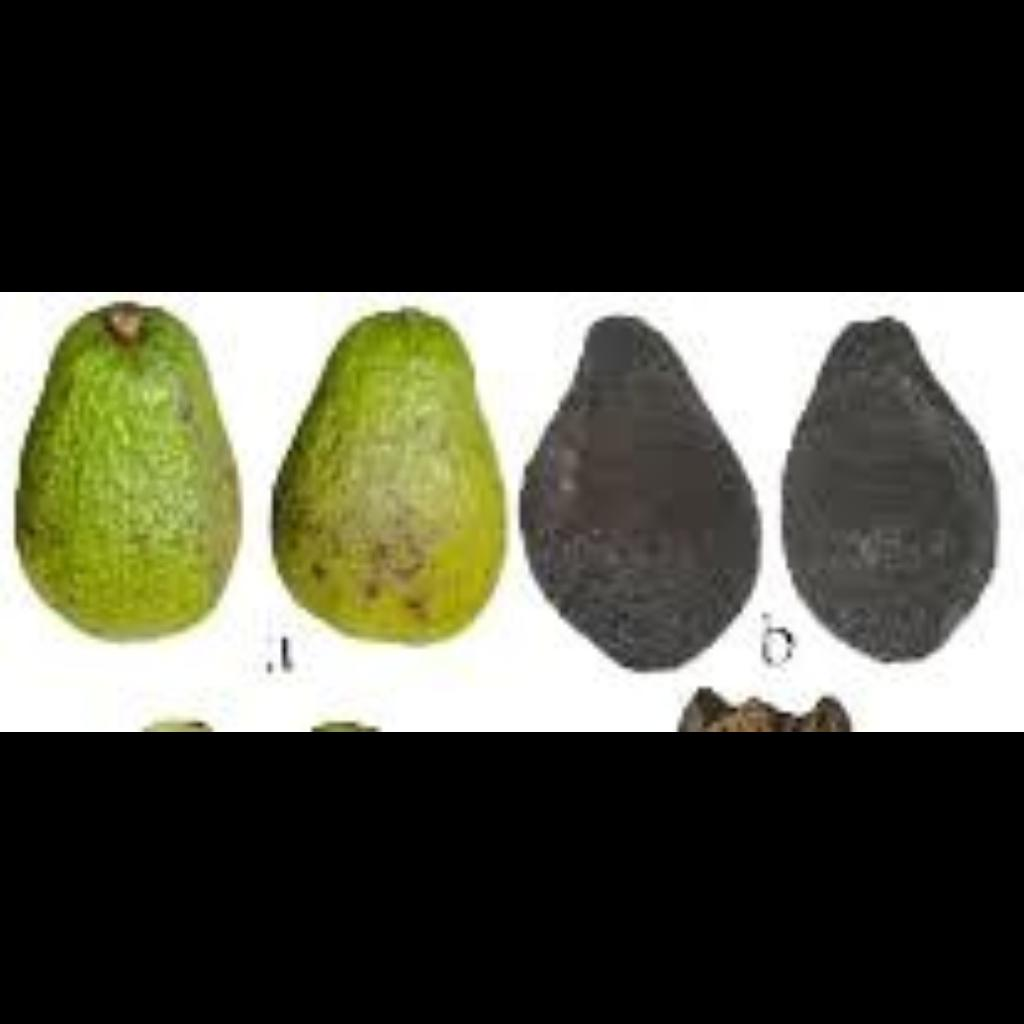Anthracnose: (515, 317, 757, 653), (788, 326, 982, 648)
